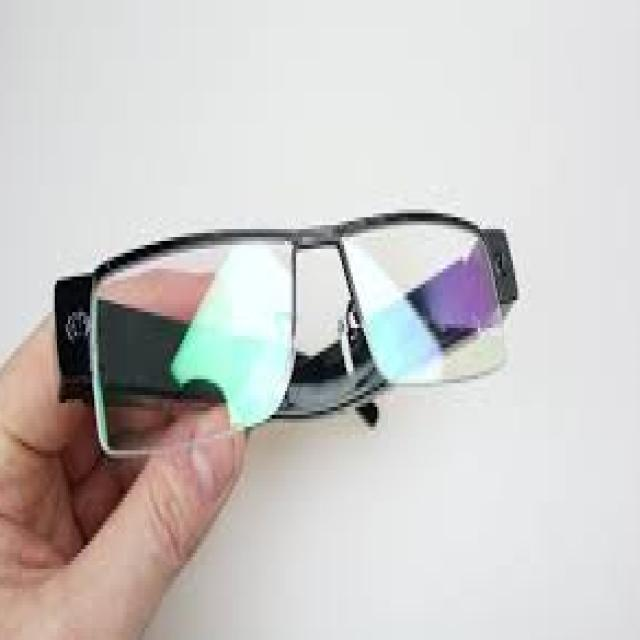hidden camera: (66, 308, 91, 348)
